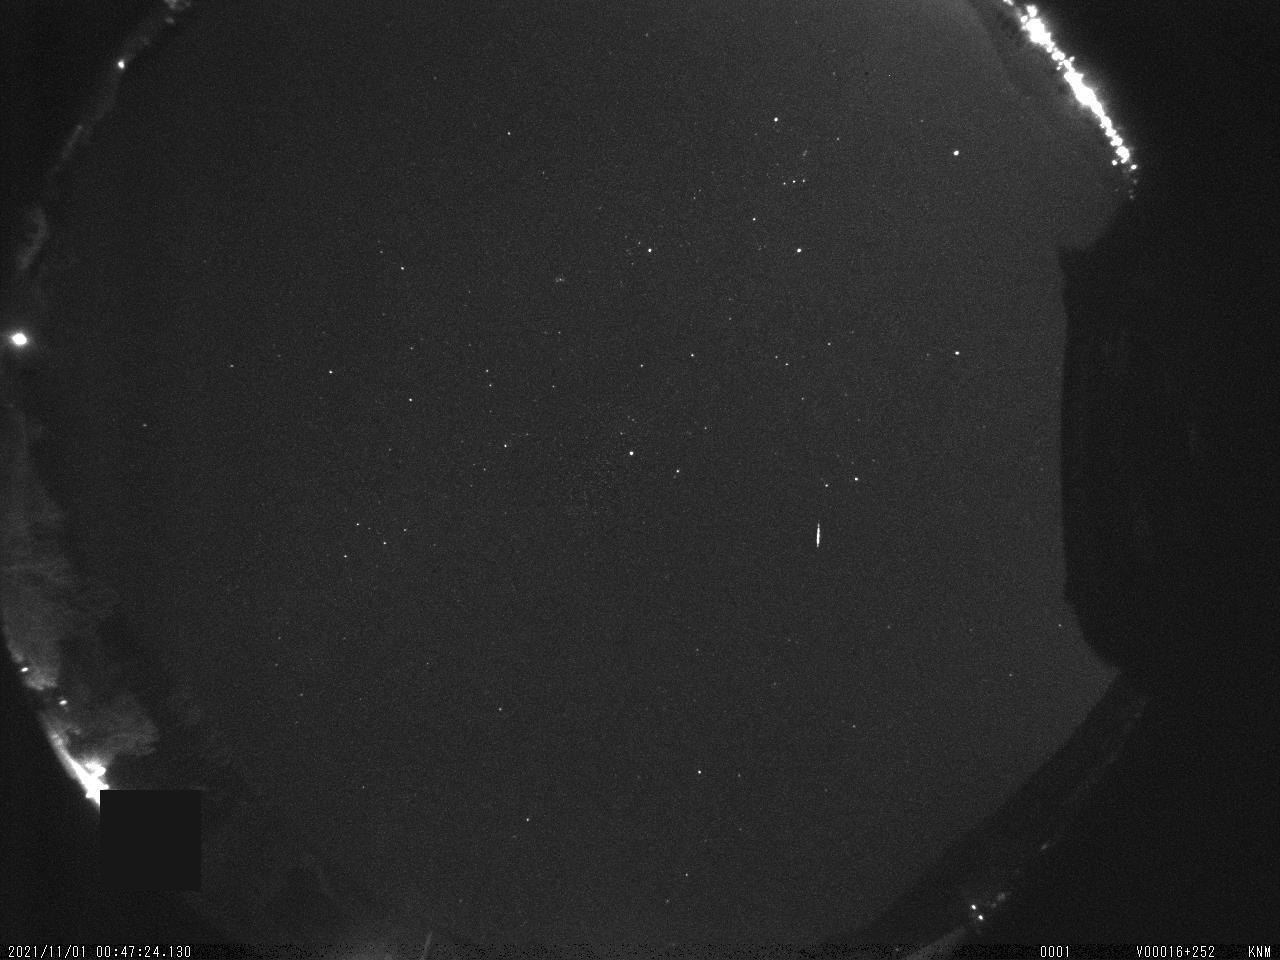Meteor: (811, 515, 830, 554)
